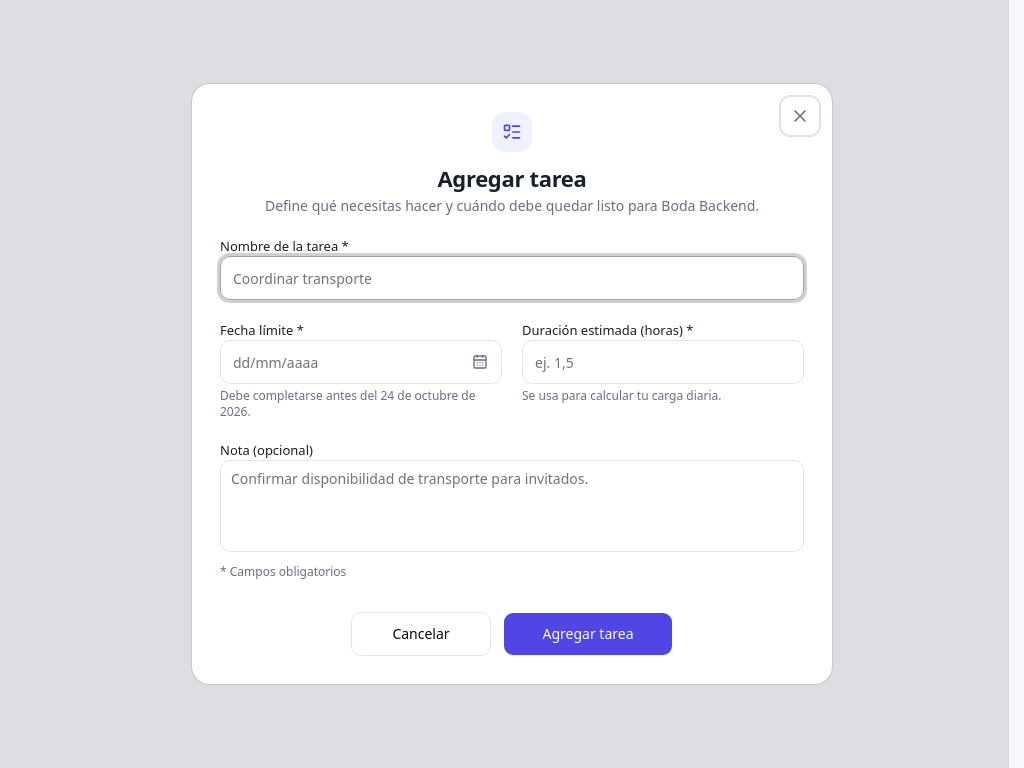
it: AddSubtaskDialog › muestra los errores obligatorios y no envía el formulario vacío
Click the button "Agregar tarea" at [588, 634], box [503,612,673,656]
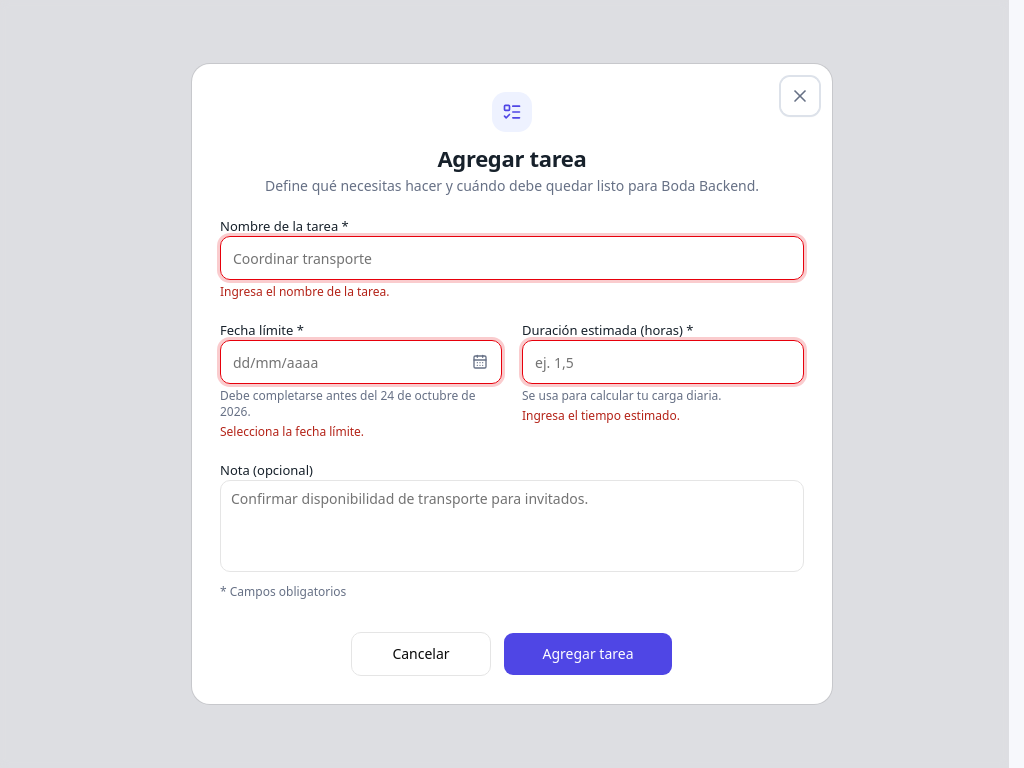
Expected: the text "Ingresa el nombre de la tarea." is shown, [220,283,390,300]
Expected: the text "Selecciona la fecha límite." is shown, [220,423,364,440]
Expected: the text "Ingresa el tiempo estimado." is shown, [522,407,680,424]
